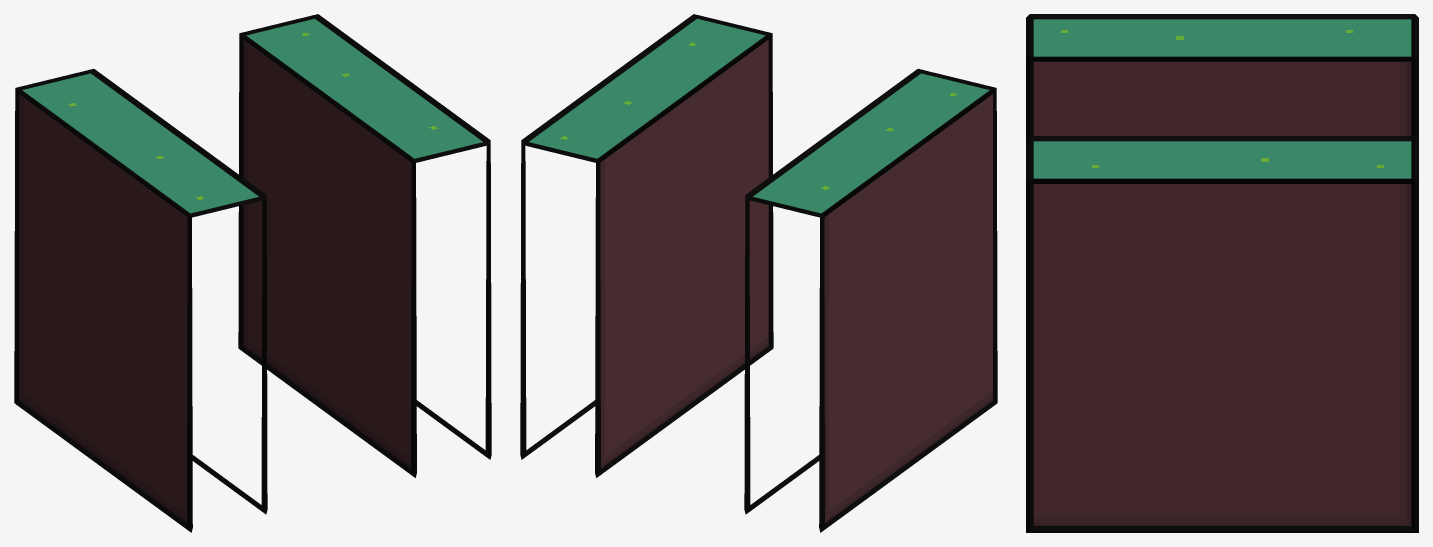
The model's file is Pit_Single_Down_Top_Down.glb.
3 renders of one model, left to right at view 1: azimuth 30°, elevation 25°; view 2: azimuth 150°, elevation 25°; view 3: azimuth 270°, elevation 25°, orthographic. The views are drawn at different scales.
Visible parts, largest first — view 1: Water_1_Pit_Single_Down_Top_Down; view 2: Water_1_Pit_Single_Down_Top_Down; view 3: Water_1_Pit_Single_Down_Top_Down.
Part boxes in pixels (x1,y1,x2,y2): Water_1_Pit_Single_Down_Top_Down: (14, 14, 491, 532); Water_1_Pit_Single_Down_Top_Down: (520, 14, 997, 532); Water_1_Pit_Single_Down_Top_Down: (1026, 14, 1418, 532).
Size of the model in its own units: 1.02 by 1.02 by 1.02.
Materials: 4 (3 with a texture image).
